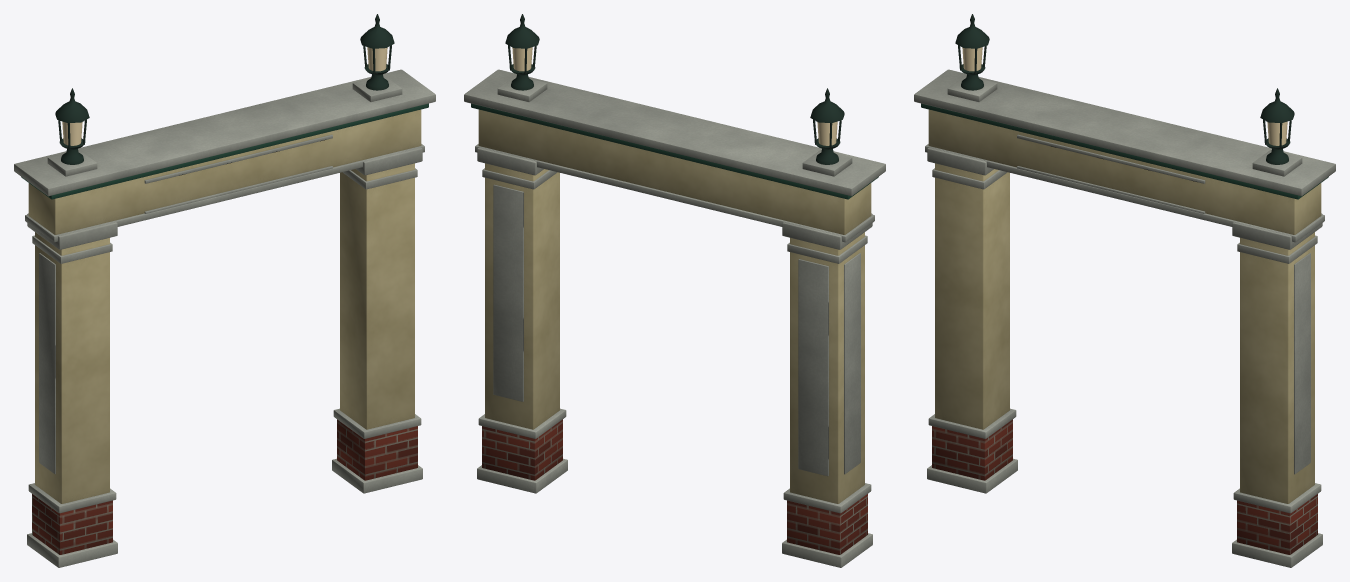
File: CTCC_LOC01_GateArchAndPillars.fbx
3 views of the same model, side by side, from view 1: azimuth 30°, elevation 25°; view 2: azimuth 150°, elevation 25°; view 3: azimuth 330°, elevation 25° (orthographic).
Visible parts, largest first — view 1: CTCC_LOC01_GateArchAndPillars_LOD0; view 2: CTCC_LOC01_GateArchAndPillars_LOD0; view 3: CTCC_LOC01_GateArchAndPillars_LOD0.
Part boxes in pixels (bbox=[...]): CTCC_LOC01_GateArchAndPillars_LOD0: bbox=[14, 14, 435, 567]; CTCC_LOC01_GateArchAndPillars_LOD0: bbox=[464, 14, 885, 567]; CTCC_LOC01_GateArchAndPillars_LOD0: bbox=[914, 14, 1335, 567].
Size of what is drawn, in the model's own units: 3.64 by 4.13 by 0.56.
